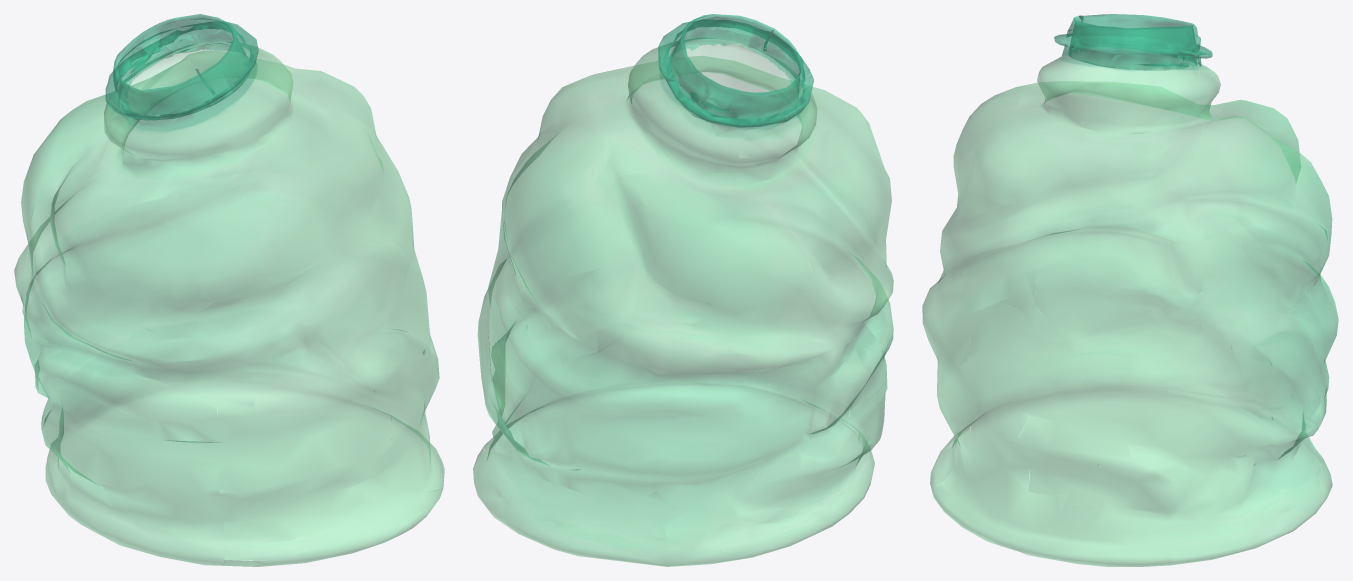
Rendered from 07_8_nj_et_gre_s_trs.glb.
3 renders of one model, left to right at view 1: azimuth 30°, elevation 25°; view 2: azimuth 150°, elevation 25°; view 3: azimuth 270°, elevation 25°, orthographic. The views are drawn at different scales.
Visible parts, largest first — view 1: yeşil.003; view 2: yeşil.003; view 3: yeşil.003.
Boxes of the visible parts, <box> form: yeşil.003: <box>14,14,444,566</box>; yeşil.003: <box>473,14,893,566</box>; yeşil.003: <box>922,14,1338,566</box>.
Bounding box in the file's own units: 0.1543 × 0.19 × 0.1546.
Materials: 1 (1 with a texture image).
